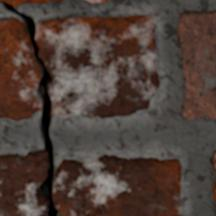brick: (178, 12, 215, 118), (6, 0, 62, 6), (213, 184, 215, 199), (88, 0, 106, 1), (214, 152, 215, 166)
broken_brick: (36, 14, 160, 119), (54, 154, 182, 215), (0, 17, 41, 121), (0, 150, 48, 215)
crack: (0, 0, 61, 215), (0, 154, 9, 157)
